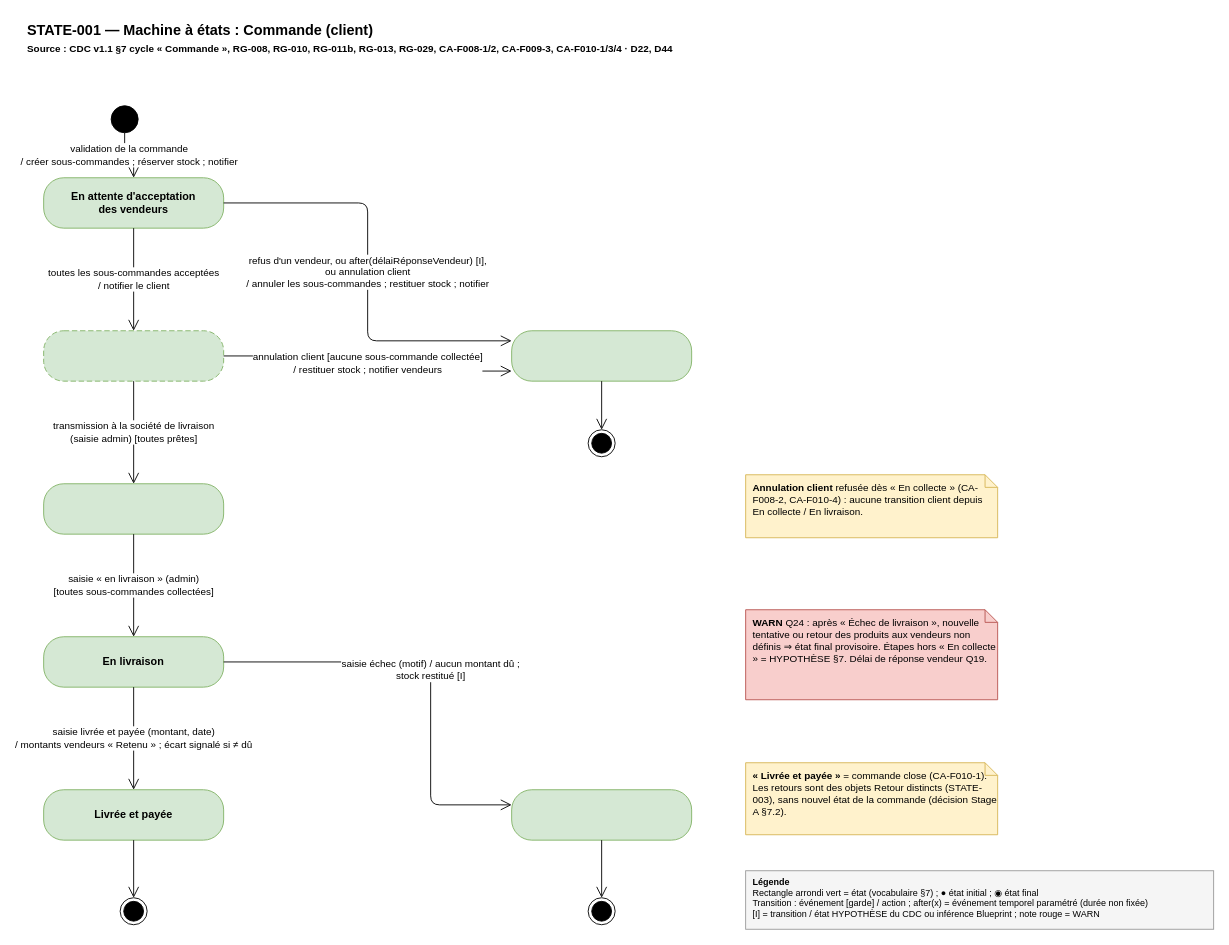
Some shapes in this 1229 by 945 pixel diagram are drawn without their labels. Here are the shapes that lost their labels. From the top down, the centre of each, then its label:
At pixel 133 355: "Confirmée [I]".
At pixel 601 355: "Annulée".
At pixel 133 508: "En collecte".
At pixel 601 814: "Échec de livraison".
